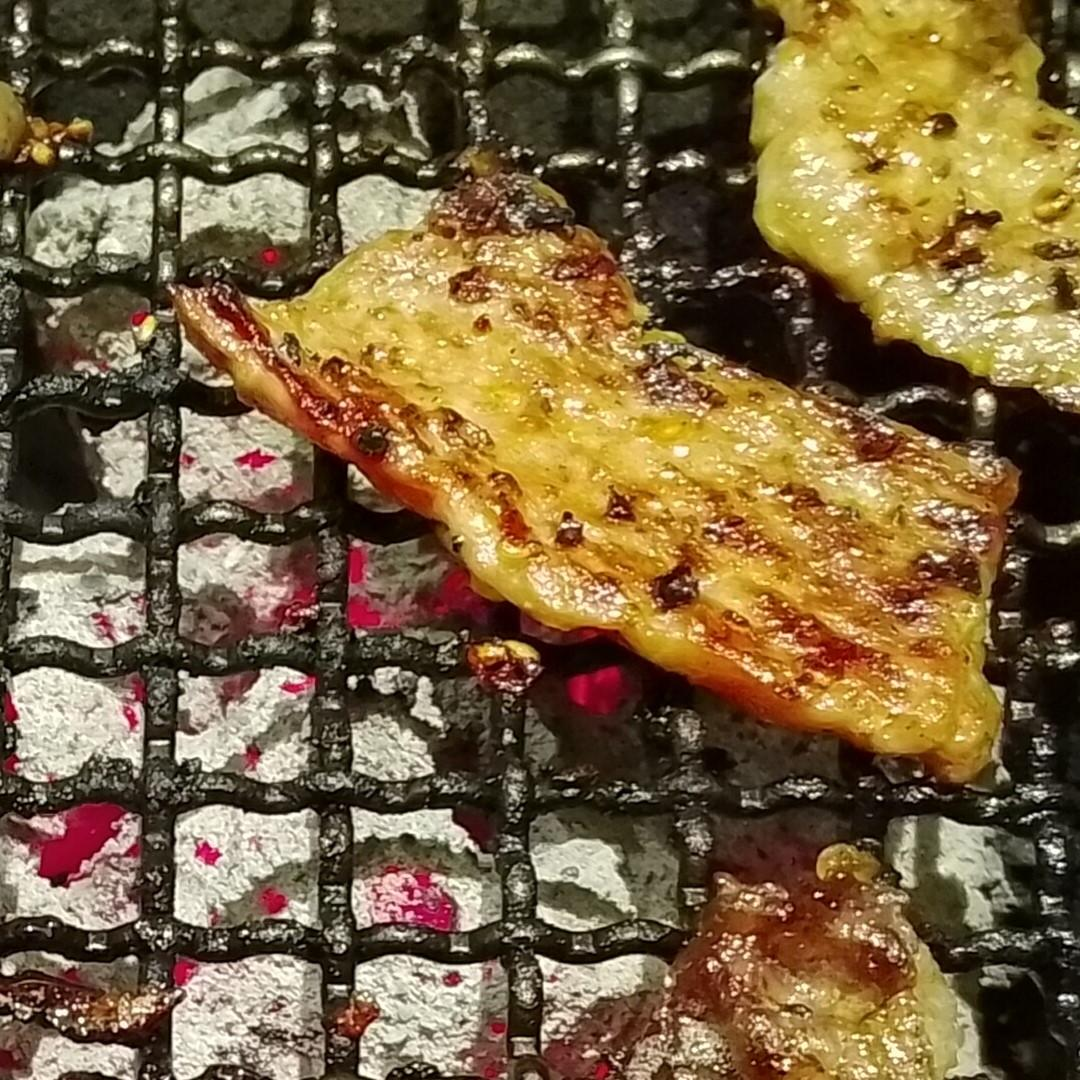Overcooked: (174, 151, 1018, 788), (618, 844, 974, 1079)
Well-Cooked: (749, 0, 1079, 416)
